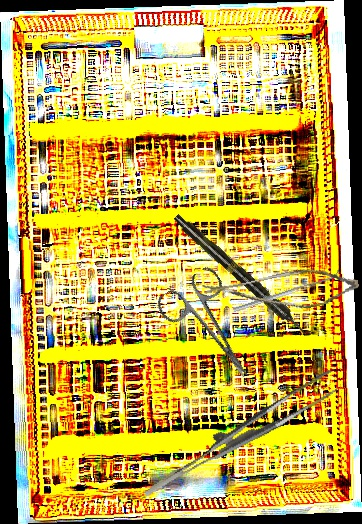Handpiece: (170, 211, 311, 339)
Iris Scissors: (153, 264, 272, 396)
Micro Scissor: (199, 251, 362, 331)
Spatula Surgical: (231, 268, 342, 313)
Tissue Forceps: (128, 369, 349, 497)
